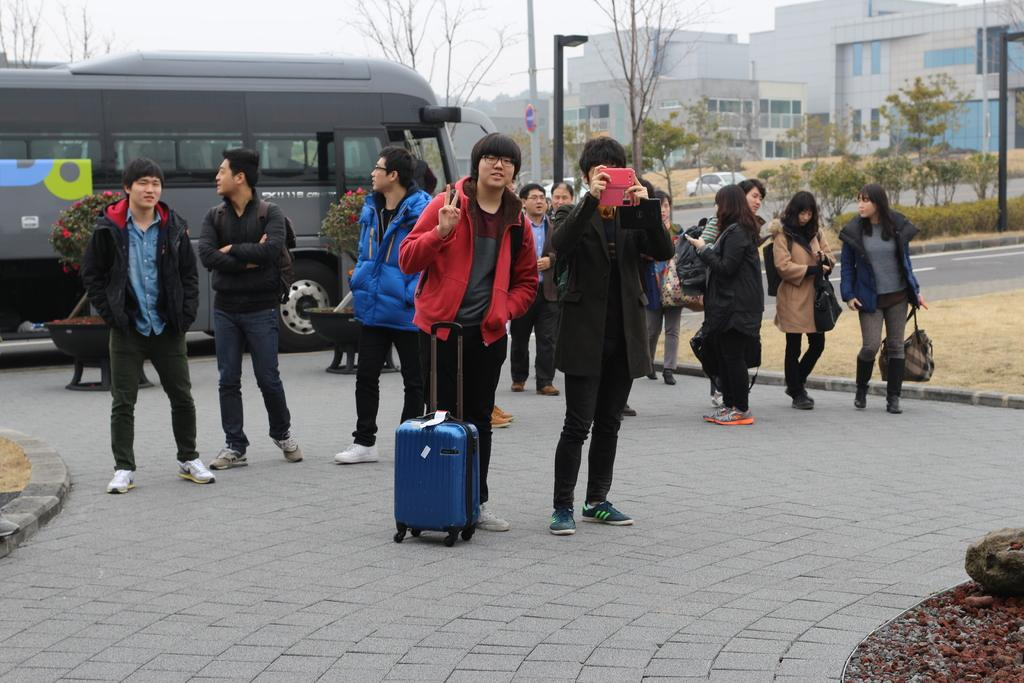Luggage-and-bags: (398, 318, 484, 547), (212, 199, 299, 304), (880, 302, 934, 381), (670, 212, 712, 295), (816, 254, 842, 328)
